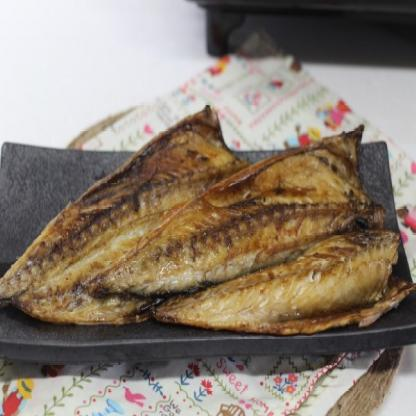Peixe: (0, 98, 404, 344)
